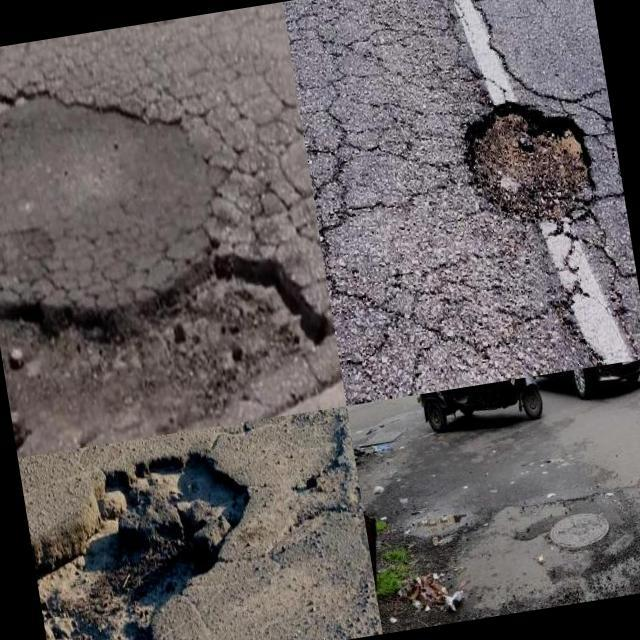Pothole: (0, 253, 330, 443), (32, 454, 248, 640), (466, 104, 594, 226)
